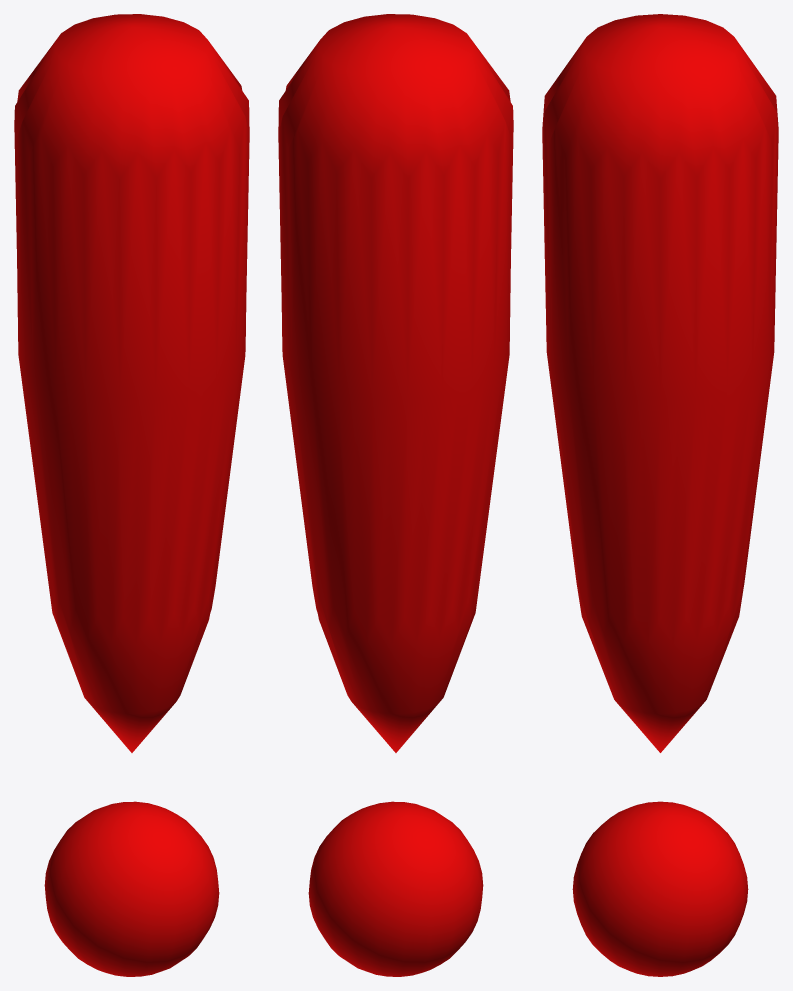
The model's file is AttentionMark01.fbx.
The picture shows the model from 3 angles, left to right: view 1: azimuth 30°, elevation 25°; view 2: azimuth 150°, elevation 25°; view 3: azimuth 270°, elevation 25°; orthographic projection.
Parts seen in each view (by area): view 1: AttentionMark; view 2: AttentionMark; view 3: AttentionMark.
Part boxes in pixels (left/top/right/bottom): AttentionMark: left=14, top=14, right=249, bottom=976; AttentionMark: left=278, top=14, right=513, bottom=976; AttentionMark: left=542, top=14, right=778, bottom=976.
Bounding box in the file's own units: 4.46 × 19.61 × 4.46.
